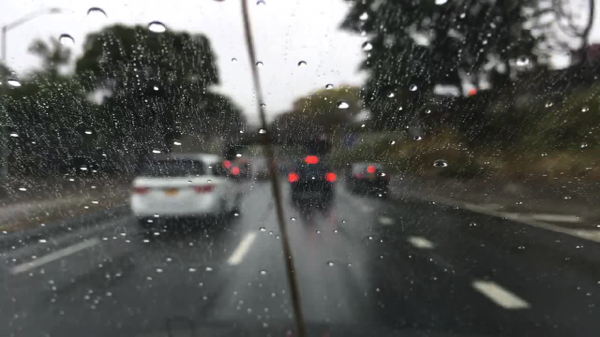car: (131, 151, 244, 233), (290, 153, 336, 204), (345, 162, 389, 193), (218, 147, 254, 184), (254, 160, 277, 181)
